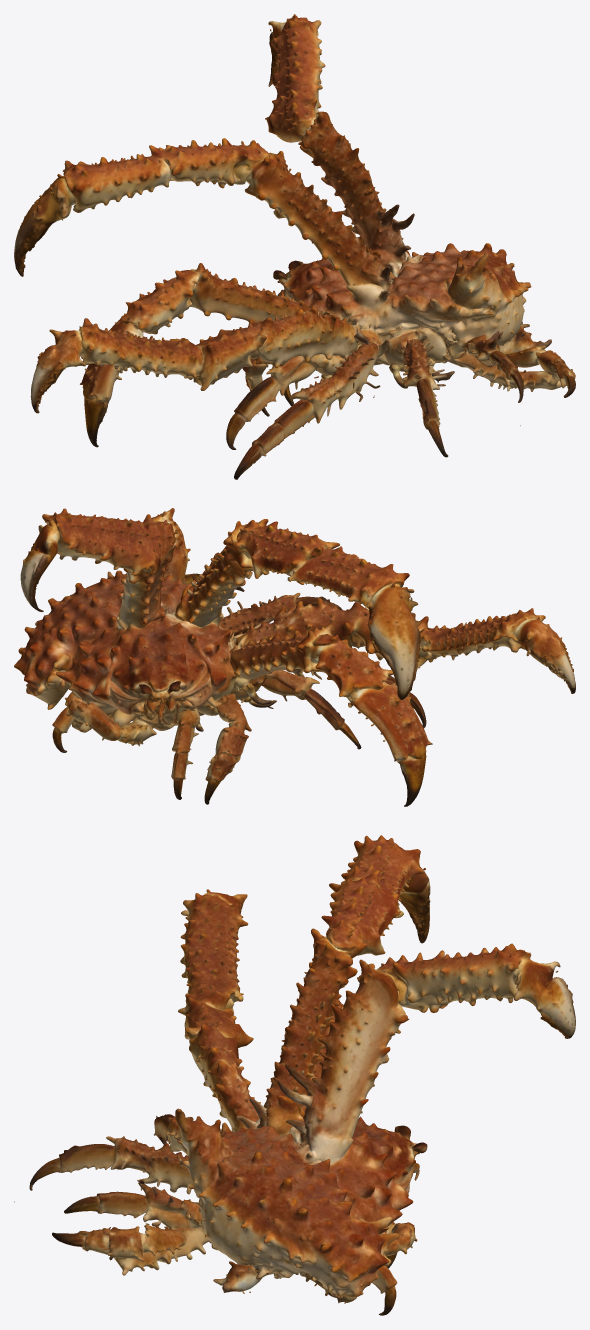
Rendered from pixal3d.glb.
The picture shows the model from 3 angles, top to bottom: view 1: azimuth 30°, elevation 25°; view 2: azimuth 150°, elevation 25°; view 3: azimuth 270°, elevation 25°; orthographic projection. The views are drawn at different scales.
Parts seen in each view (by area): view 1: world; view 2: world; view 3: world.
Boxes of the visible parts, x1,y1,x2,y2 form: world: (14, 14, 575, 479); world: (14, 508, 575, 806); world: (14, 835, 575, 1315).
Size of the model in its own units: 0.9328 by 0.5547 by 0.7828.
1 material, 1 textured.
